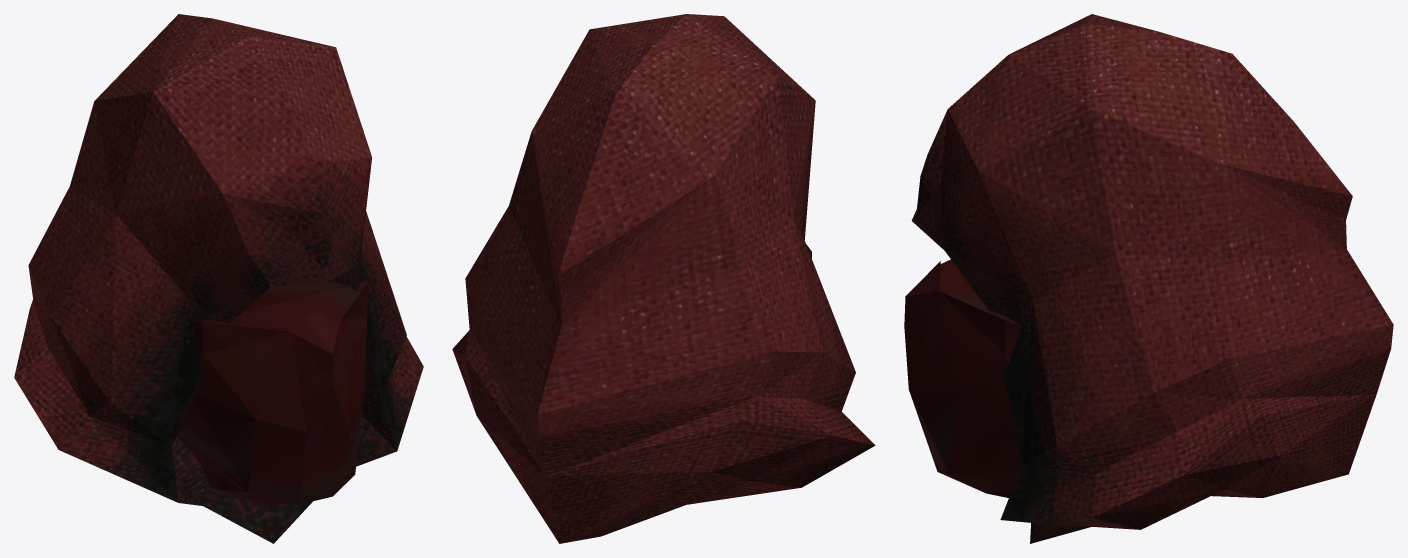
Rendered from MASK_CZ.glb.
3 views of the same model, side by side, from view 1: azimuth 30°, elevation 25°; view 2: azimuth 150°, elevation 25°; view 3: azimuth 270°, elevation 25° (orthographic). The views are drawn at different scales.
Visible parts, largest first — view 1: MASK_CZ; view 2: MASK_CZ; view 3: MASK_CZ.
Boxes of the visible parts, bbox=[...] form: MASK_CZ: bbox=[14, 14, 423, 543]; MASK_CZ: bbox=[452, 14, 875, 543]; MASK_CZ: bbox=[904, 14, 1393, 543].
Bounding box in the file's own units: 0.3241 × 0.4106 × 0.3501.
Materials: 2 (2 with a texture image).
